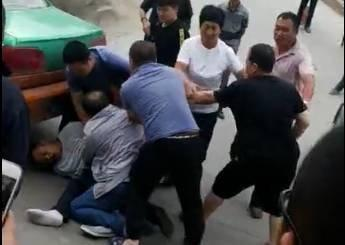Fall-Detected: (26, 107, 139, 238)
